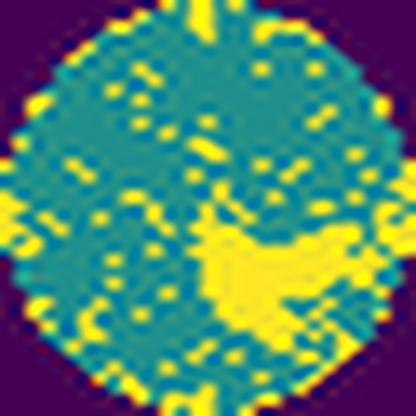Loc: (182, 196, 389, 354)
